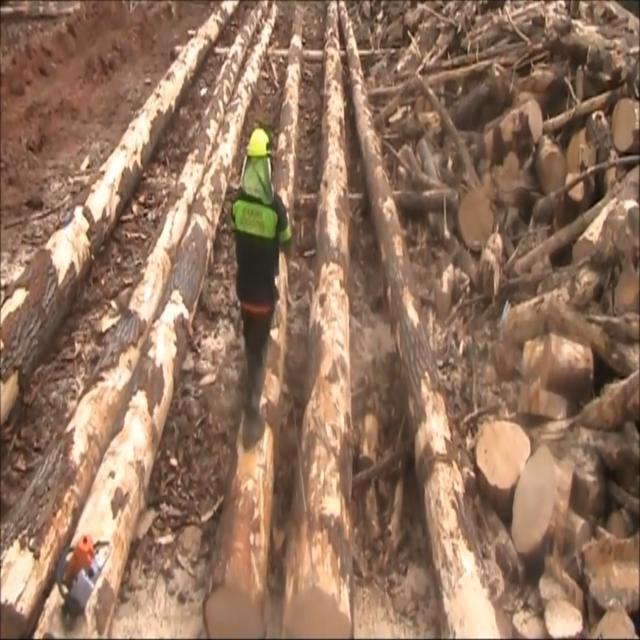Chainsaw: (50, 510, 128, 626)
